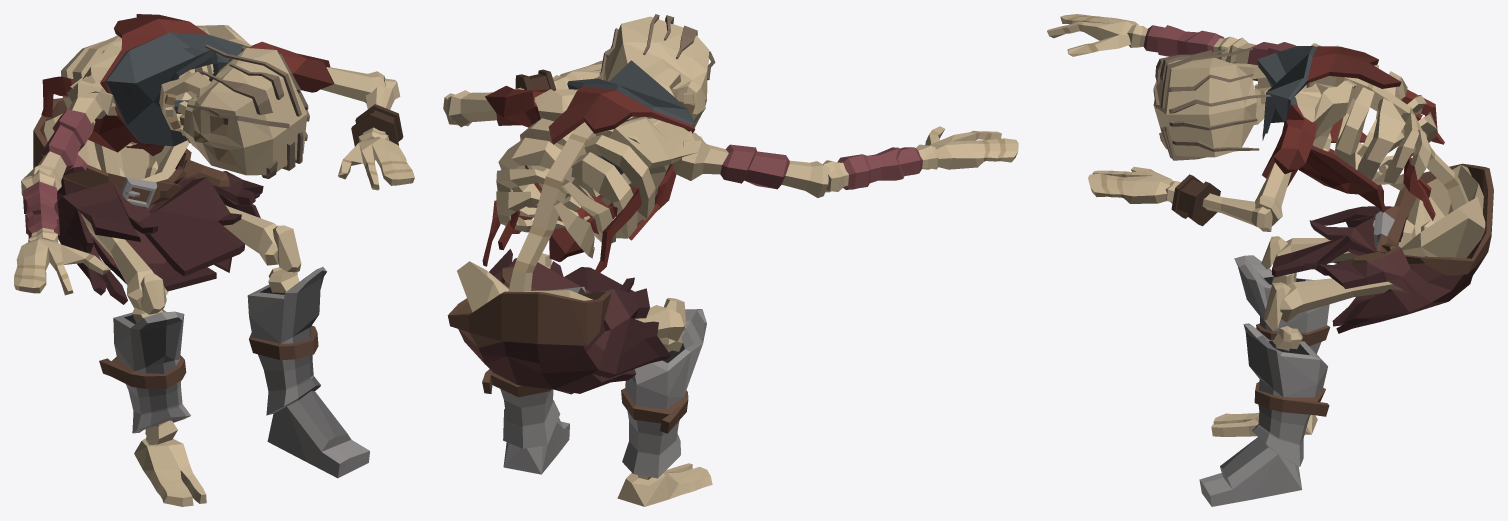
The model's file is SM_Prop_Skeleton_Table_01.fbx.
3 renders of one model, left to right at view 1: azimuth 30°, elevation 25°; view 2: azimuth 150°, elevation 25°; view 3: azimuth 270°, elevation 25°, orthographic. The views are drawn at different scales.
Parts seen in each view (by area): view 1: SM_Prop_Skeleton_Table_01; view 2: SM_Prop_Skeleton_Table_01; view 3: SM_Prop_Skeleton_Table_01.
Boxes of the visible parts, x1=… form: SM_Prop_Skeleton_Table_01: x1=14, y1=14, x2=414, y2=506; SM_Prop_Skeleton_Table_01: x1=443, y1=14, x2=1018, y2=506; SM_Prop_Skeleton_Table_01: x1=1047, y1=14, x2=1493, y2=506.
Bounding box in the file's own units: 126 × 110 × 111.
